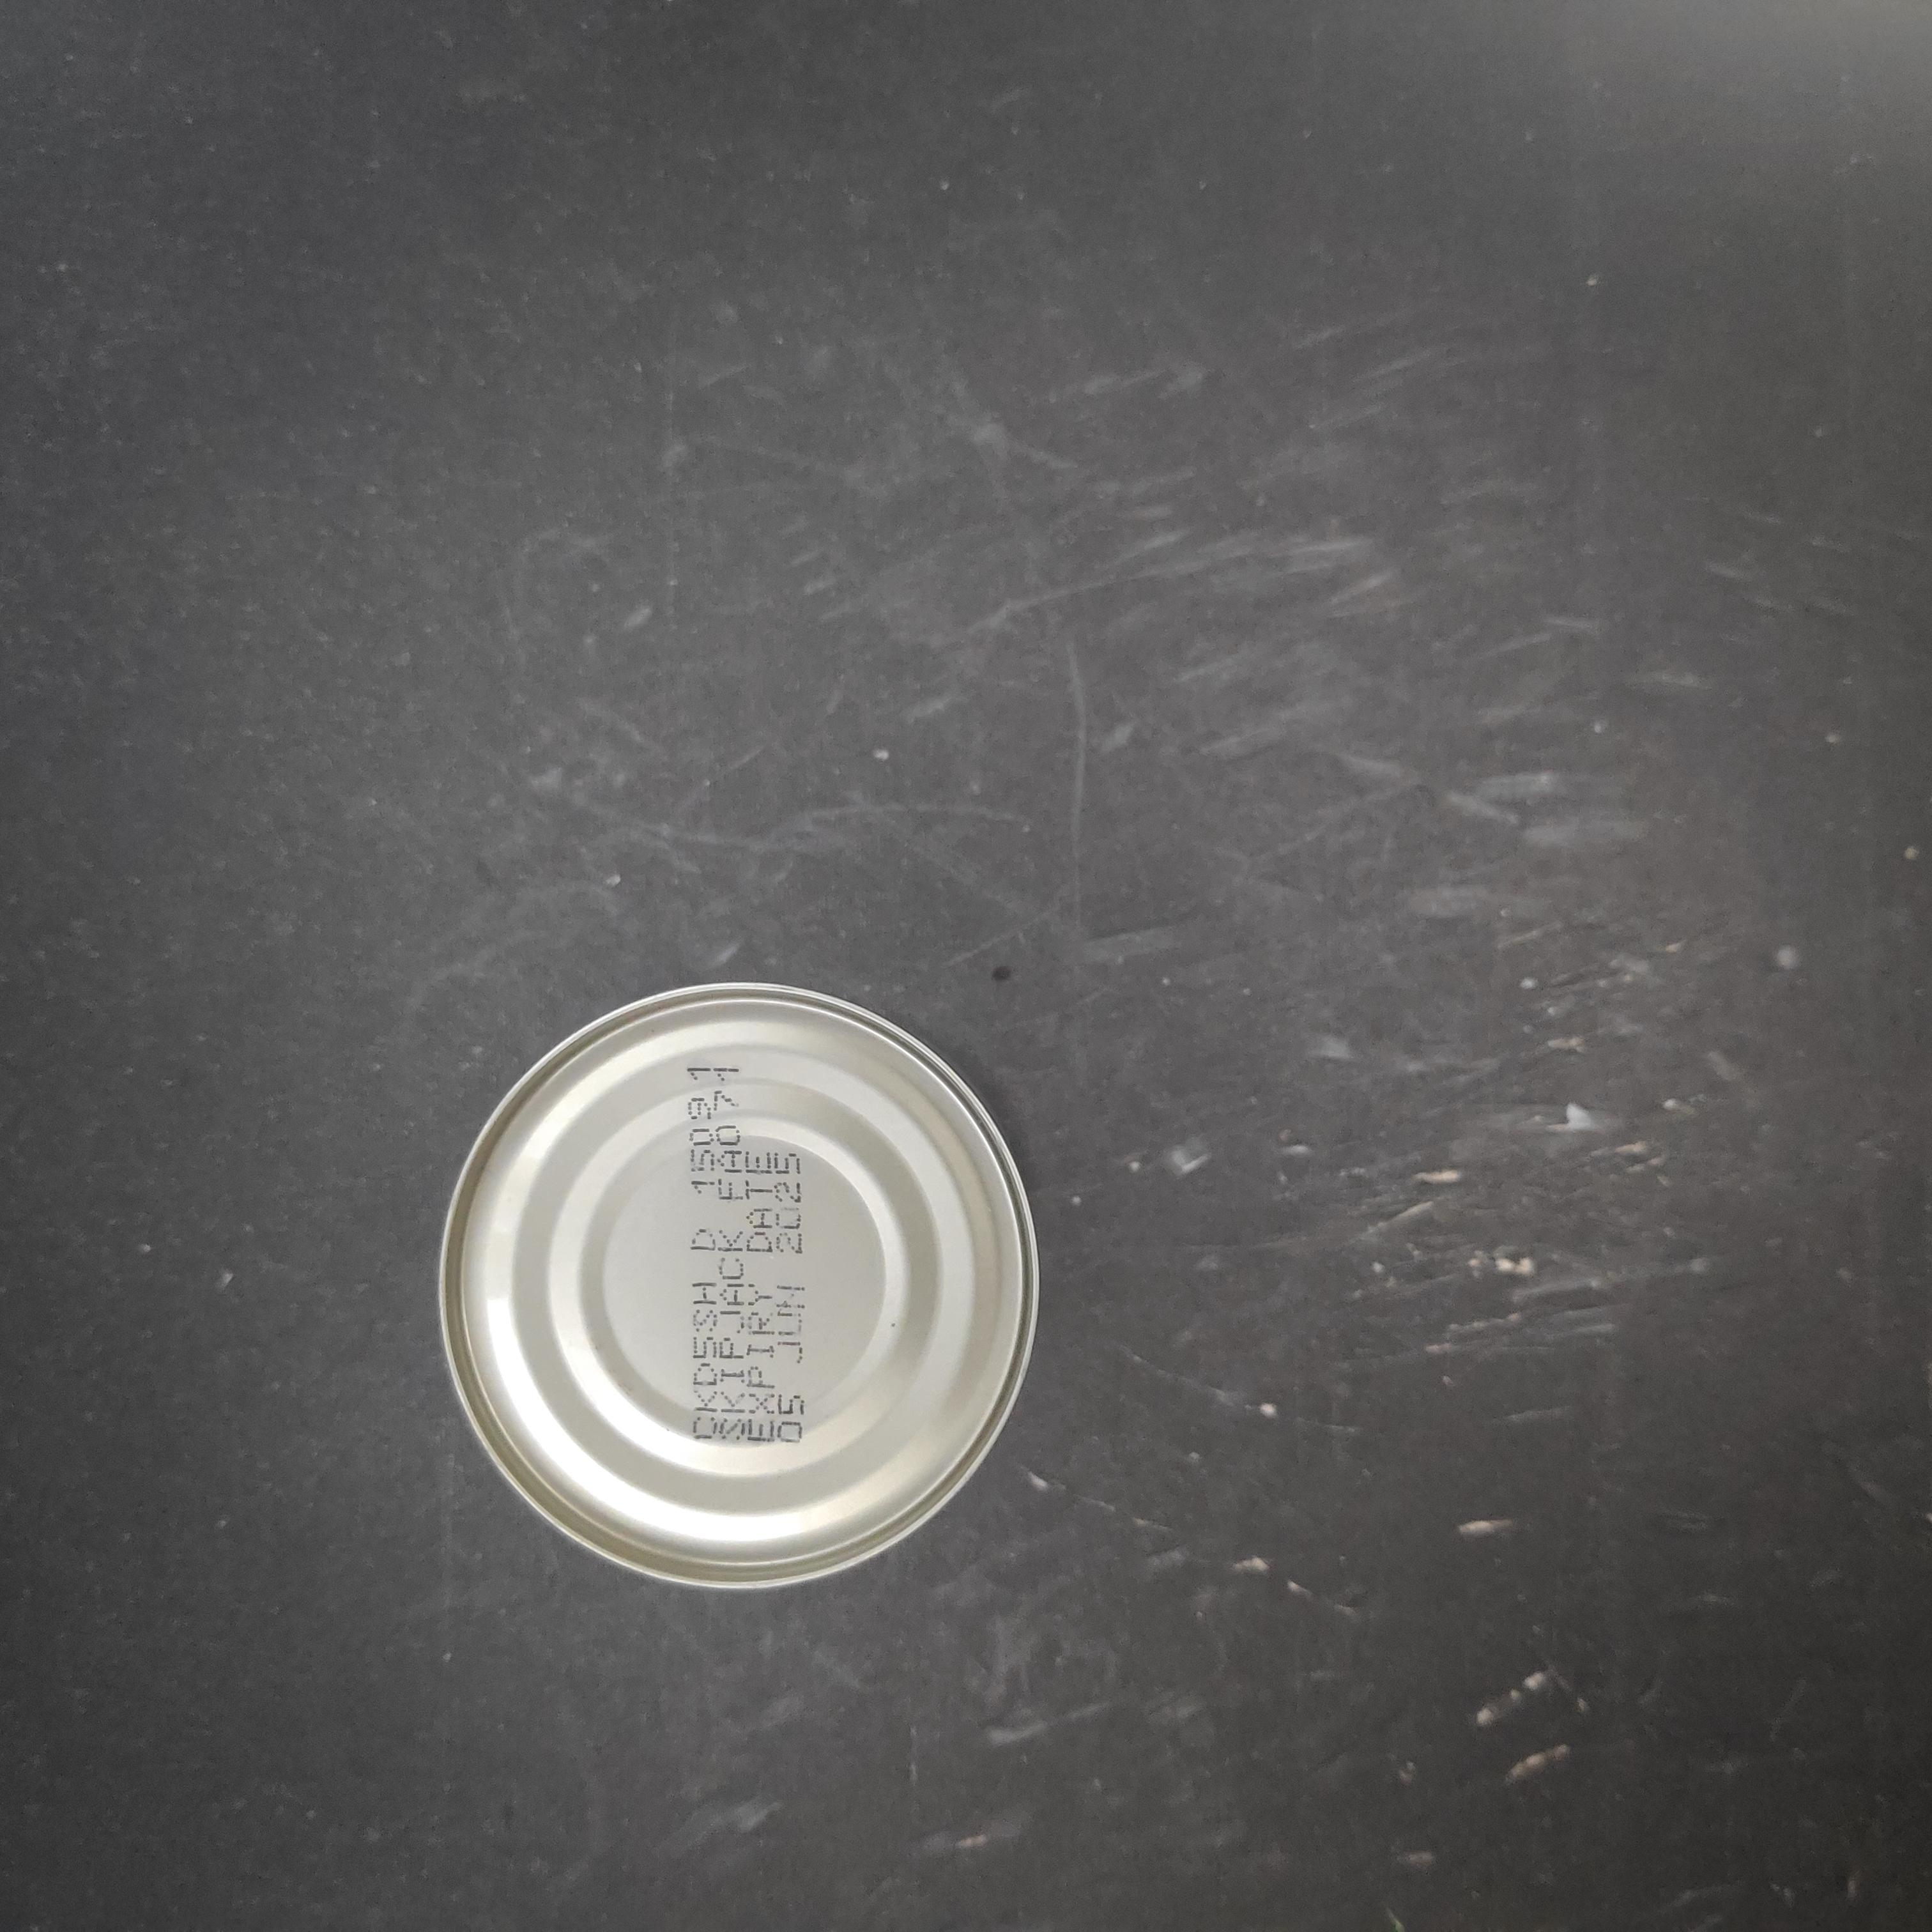No defect: (876, 329, 1506, 968)
